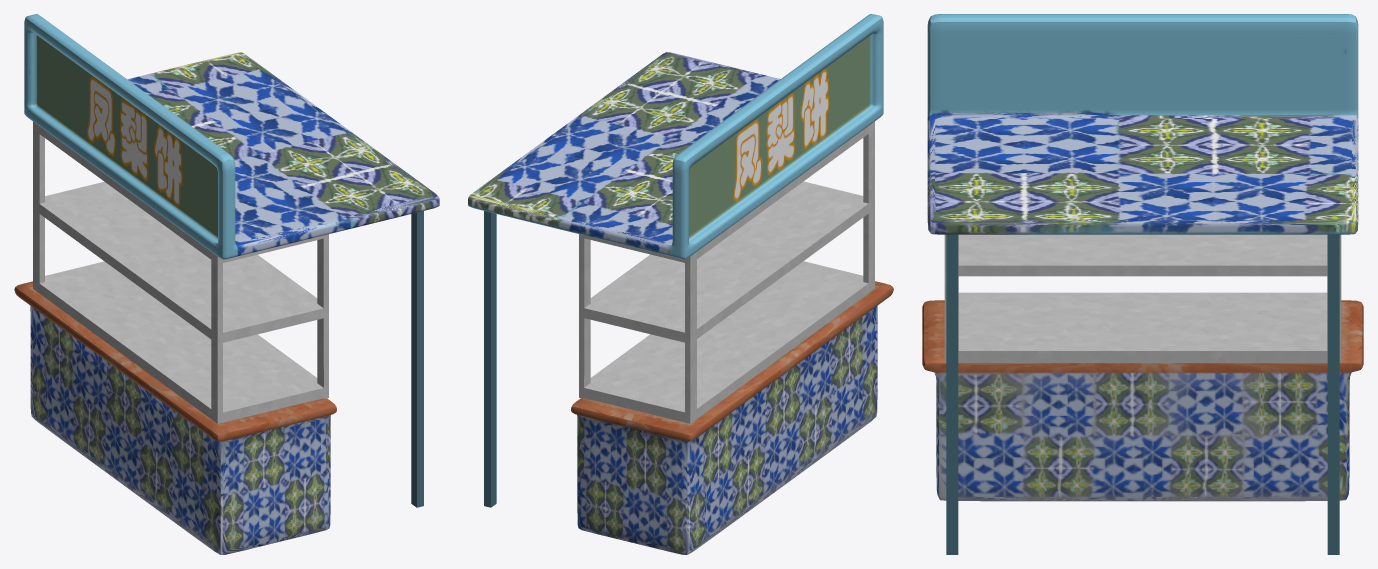
Rendered from Booth 2-2.fbx.
3 renders of one model, left to right at view 1: azimuth 30°, elevation 25°; view 2: azimuth 150°, elevation 25°; view 3: azimuth 270°, elevation 25°, orthographic. The views are drawn at different scales.
Parts seen in each view (by area): view 1: Cube.002, Cube, Cube.001, Cube.004; view 2: Cube.002, Cube, Cube.001, Cube.004; view 3: Cube.002, Cube.001, Cube, Cube.004.
Part boxes in pixels (left/top/right/bottom): Cube.002: left=24, top=14, right=439, bottom=259; Cube: left=33, top=121, right=328, bottom=423; Cube.001: left=14, top=281, right=336, bottom=554; Cube.004: left=411, top=211, right=423, bottom=507; Cube.002: left=468, top=14, right=883, bottom=259; Cube: left=579, top=121, right=874, bottom=423; Cube.001: left=571, top=281, right=893, bottom=554; Cube.004: left=484, top=211, right=496, bottom=507; Cube.002: left=927, top=14, right=1358, bottom=234; Cube.001: left=922, top=300, right=1363, bottom=501; Cube: left=944, top=234, right=1341, bottom=362; Cube.004: left=946, top=234, right=1339, bottom=554.
Bounding box in the file's own units: 885 × 1502 × 1389.
Materials: 1 (1 with a texture image).
